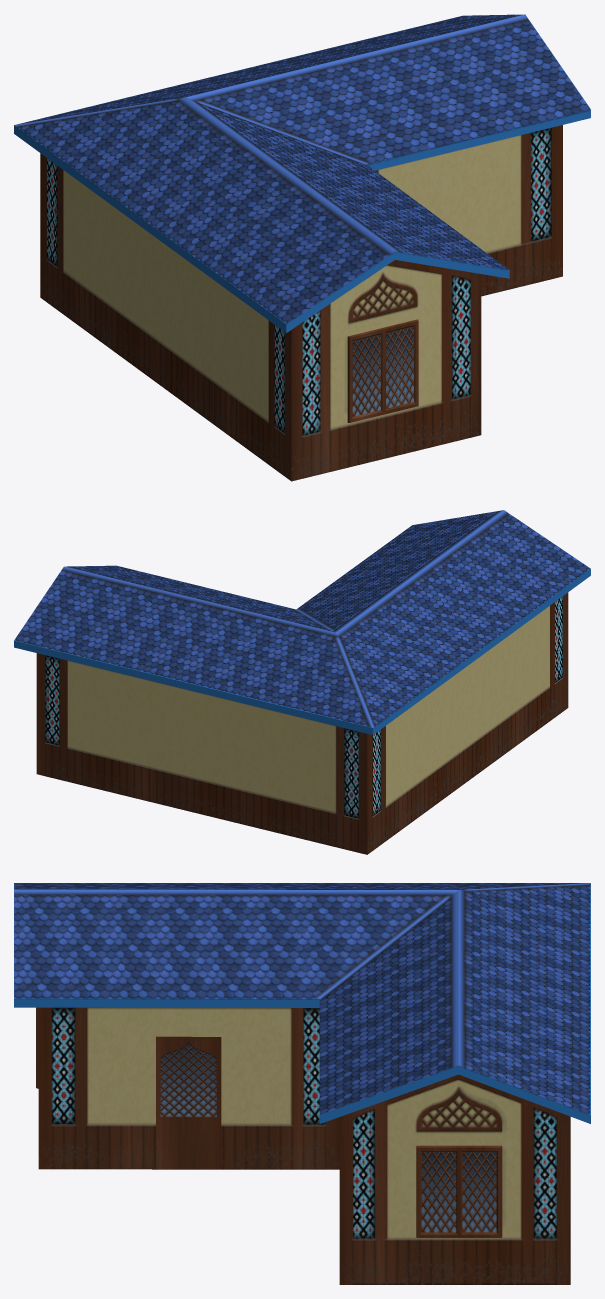
Rendered from street_restaurant_bd01.FBX.
3 renders of one model, top to bottom at view 1: azimuth 30°, elevation 25°; view 2: azimuth 150°, elevation 25°; view 3: azimuth 270°, elevation 25°, orthographic. The views are drawn at different scales.
Visible parts, largest first — view 1: street_restaurant_bd01; view 2: street_restaurant_bd01; view 3: street_restaurant_bd01.
Part boxes in pixels (<box>): street_restaurant_bd01: <box>14,14,590,481</box>; street_restaurant_bd01: <box>14,510,590,854</box>; street_restaurant_bd01: <box>14,883,590,1284</box>.
Size of the model in its own units: 939 by 433 by 988.
1 material, 1 textured.
